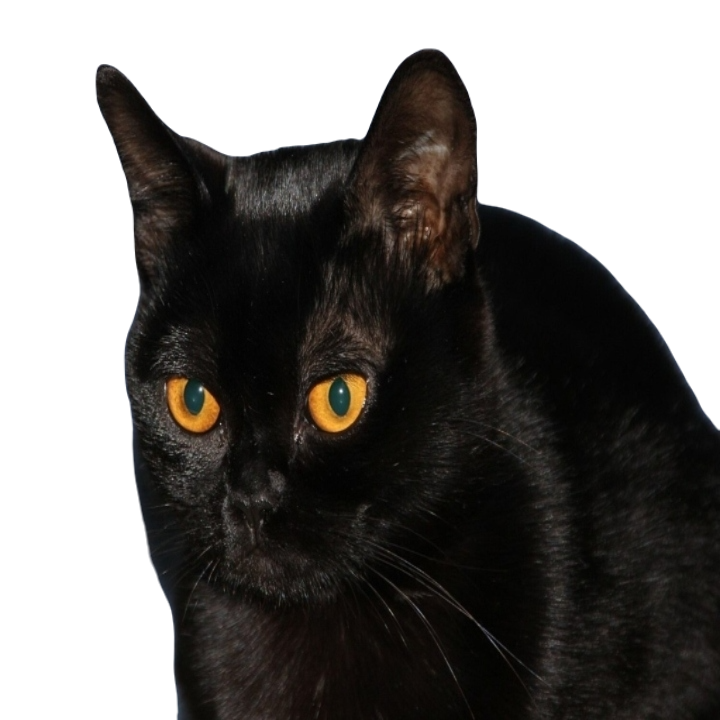Cat: (92, 41, 719, 719)
